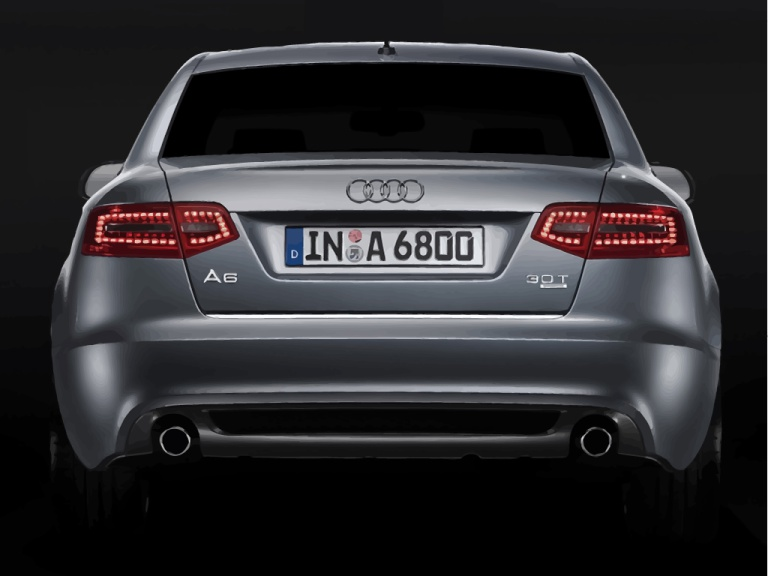audi: (338, 175, 436, 208)
